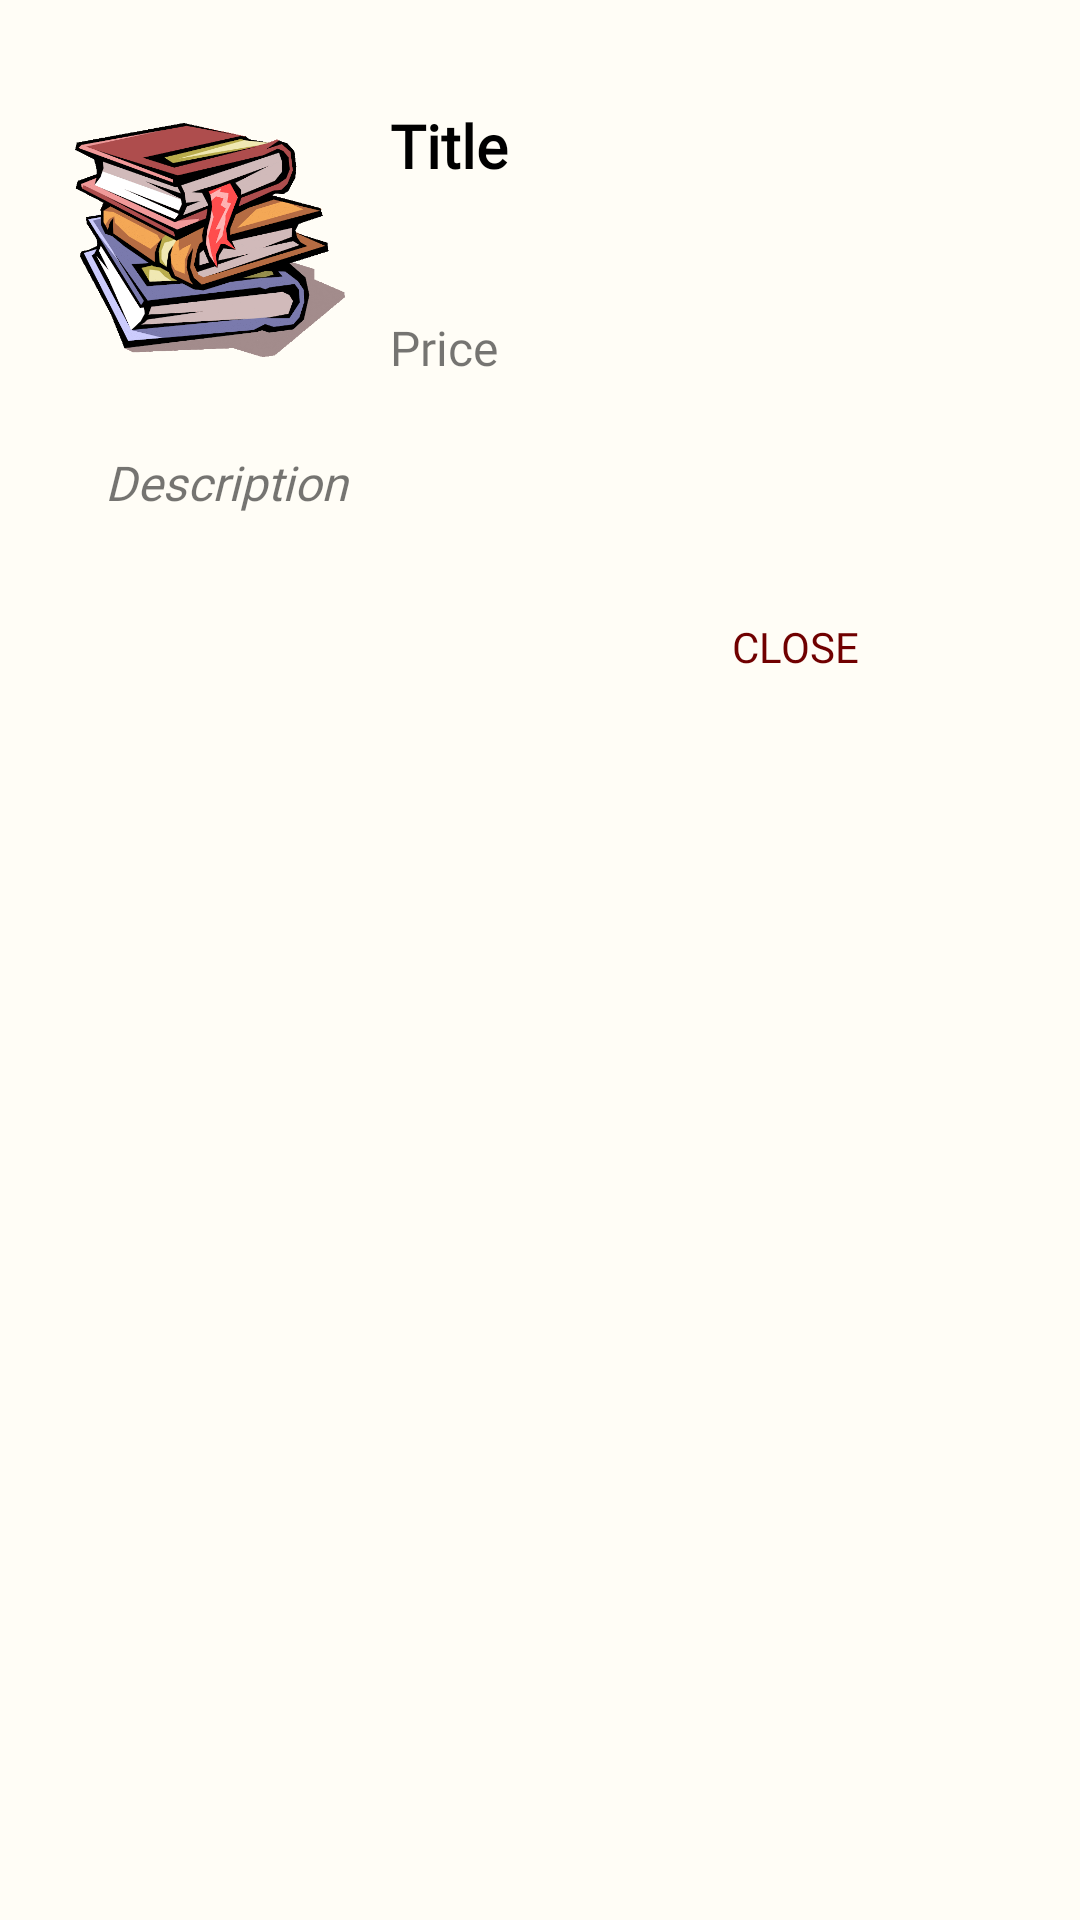

Icons on this 1080w x 1920h Android screen, each with its box as (x1, y1, x2, y2):
books: (75, 123, 345, 357)
